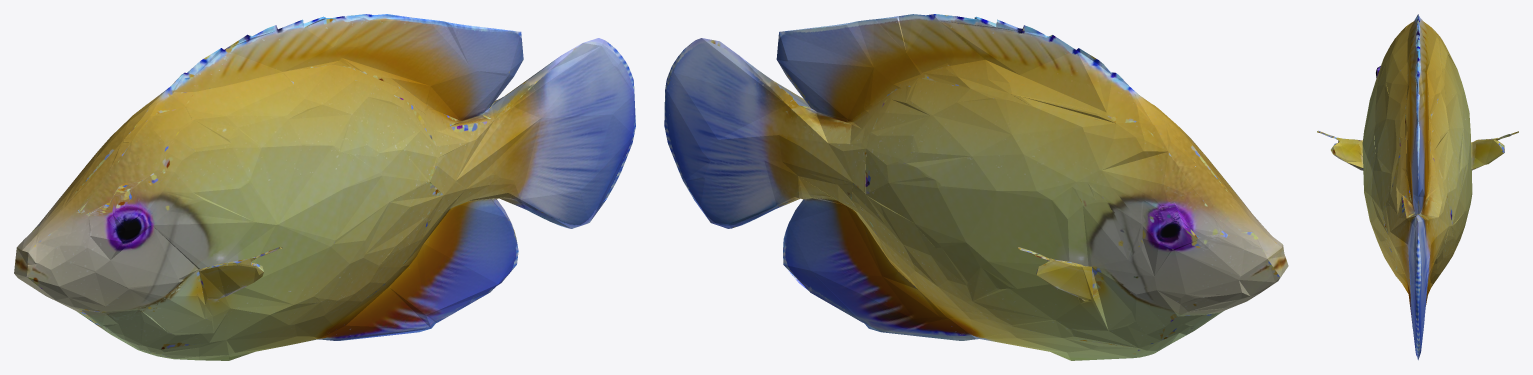
File: fish_0059_smpl23_resized.glb
3 views of the same model, side by side, from view 1: azimuth 30°, elevation 25°; view 2: azimuth 150°, elevation 25°; view 3: azimuth 270°, elevation 25° (orthographic). The views are drawn at different scales.
Parts seen in each view (by area): view 1: world; view 2: world; view 3: world.
Boxes of the visible parts, bbox=[...] form: world: bbox=[14, 14, 635, 360]; world: bbox=[664, 14, 1288, 360]; world: bbox=[1317, 14, 1518, 360].
Bounding box in the file's own units: 1.99 × 1.05 × 0.724.
Materials: 1 (1 with a texture image).
